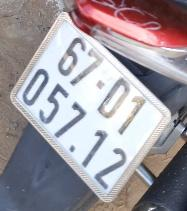0: (19, 64, 54, 110)
1: (112, 91, 152, 141), (77, 125, 115, 174)
2: (89, 141, 135, 196)
5: (35, 79, 73, 128)
6: (53, 34, 91, 79)
7: (47, 98, 92, 144), (67, 46, 108, 92)
D: (94, 74, 137, 122)
